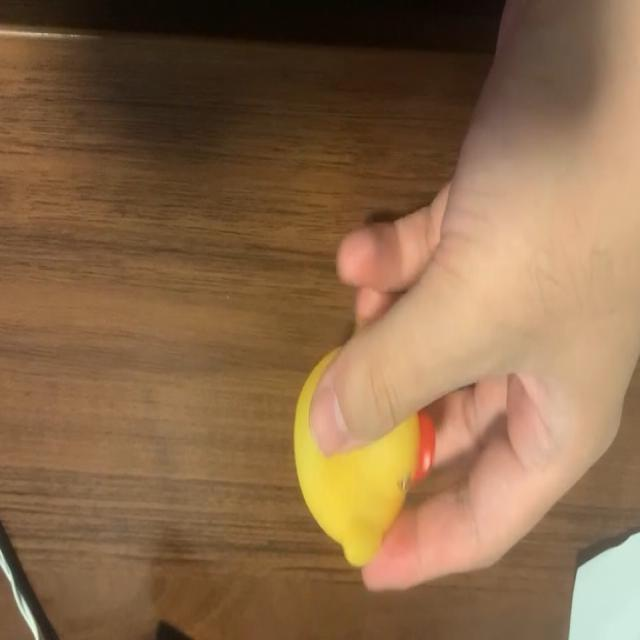rubber-duck: (293, 348, 433, 564)
